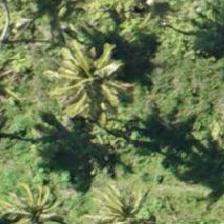coconut_tree: (55, 36, 145, 126), (0, 169, 78, 223)
